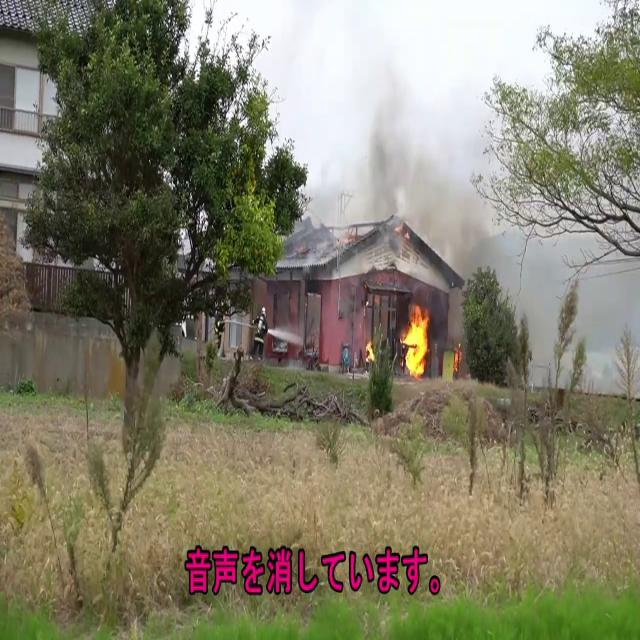Fire: (399, 301, 433, 379)
Smoke: (358, 39, 498, 280)
